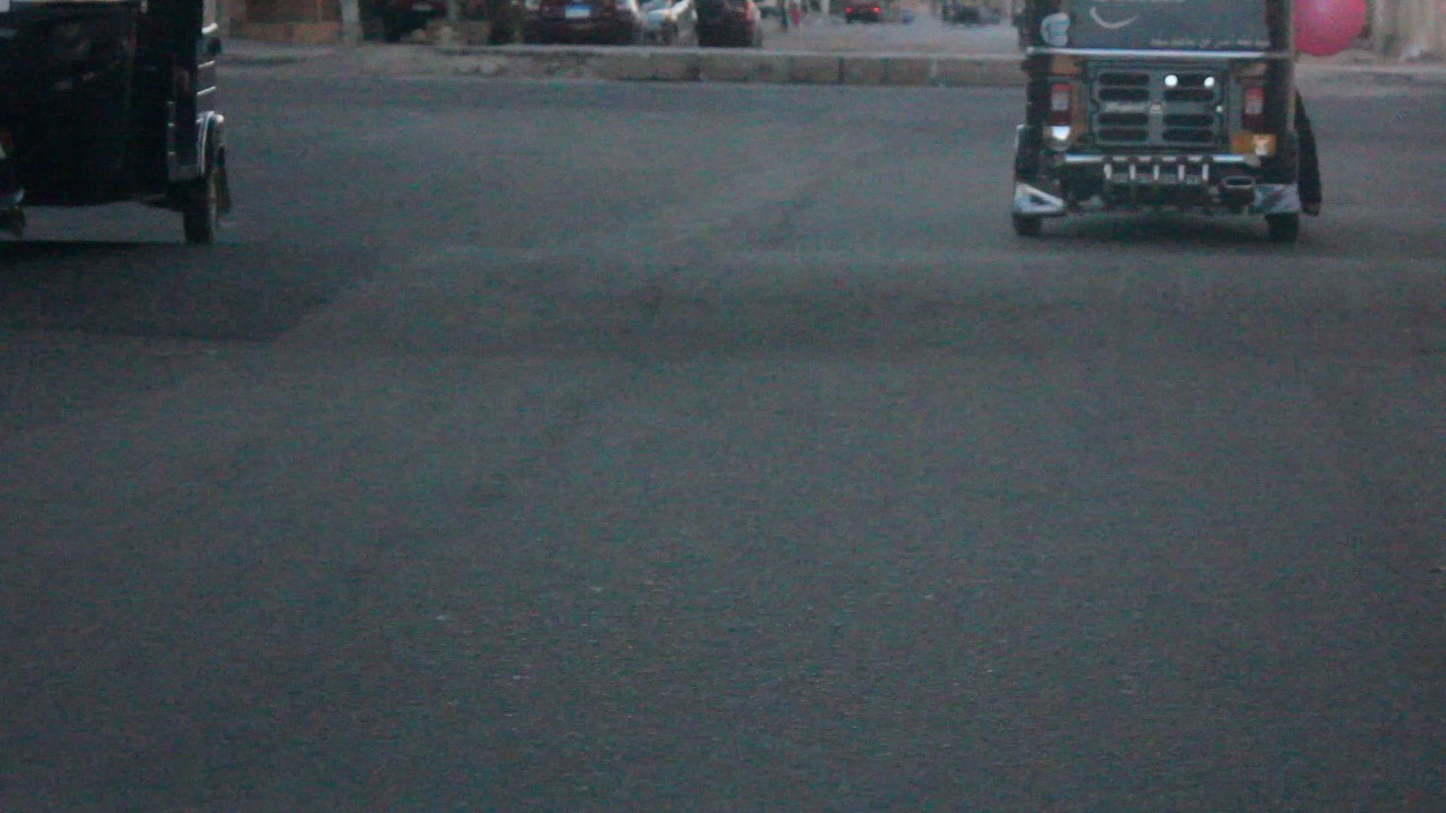Bump: (36, 333, 1446, 792)
